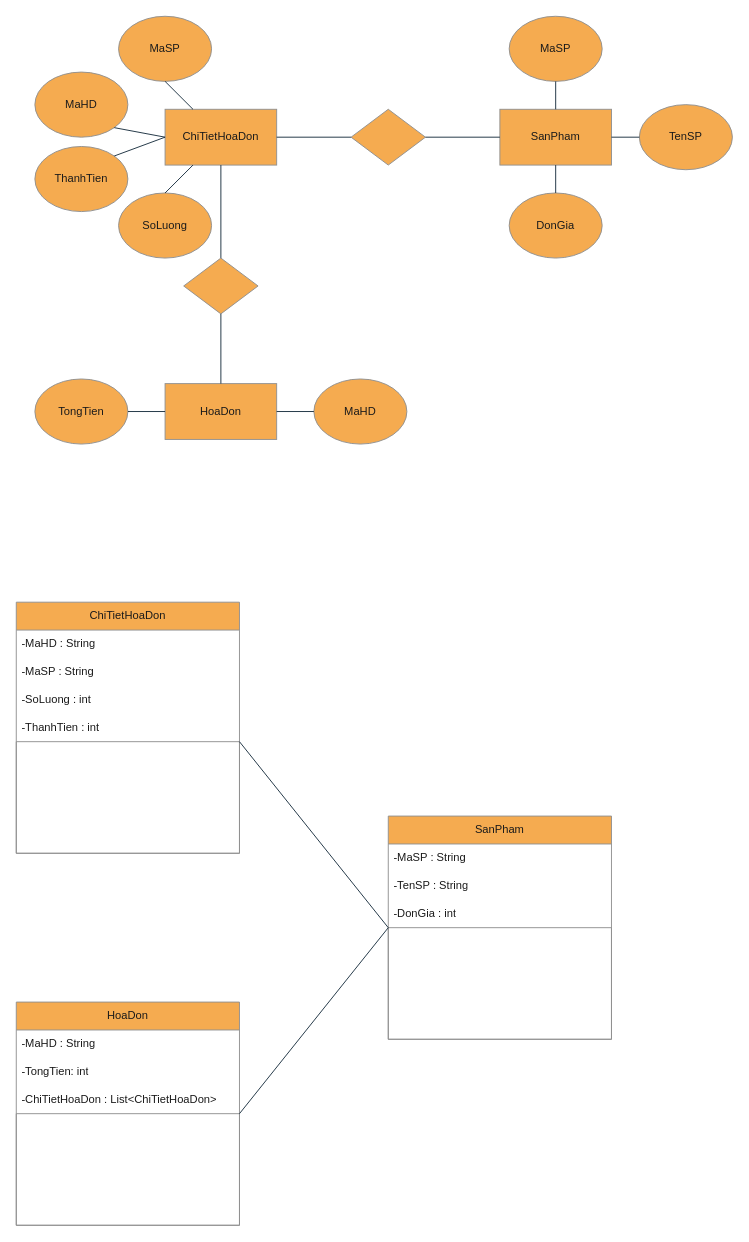
The diagram is 749 pixels wide and 1242 high, and some of its shapes have lost their labels. The shapes that lost their labels are listed below. From the top down, each one's centre as x and y in pixels, then its label:
[387,136]: Gồm
[220,285]: Của
